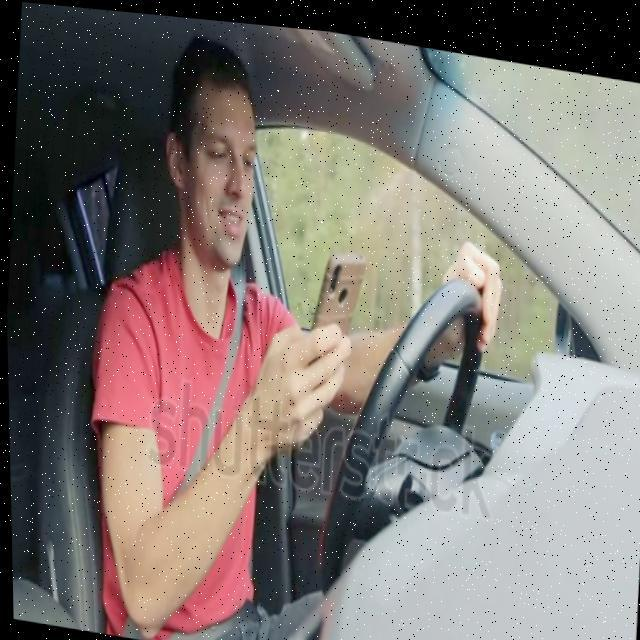PhoneCall: (304, 238, 366, 364)
